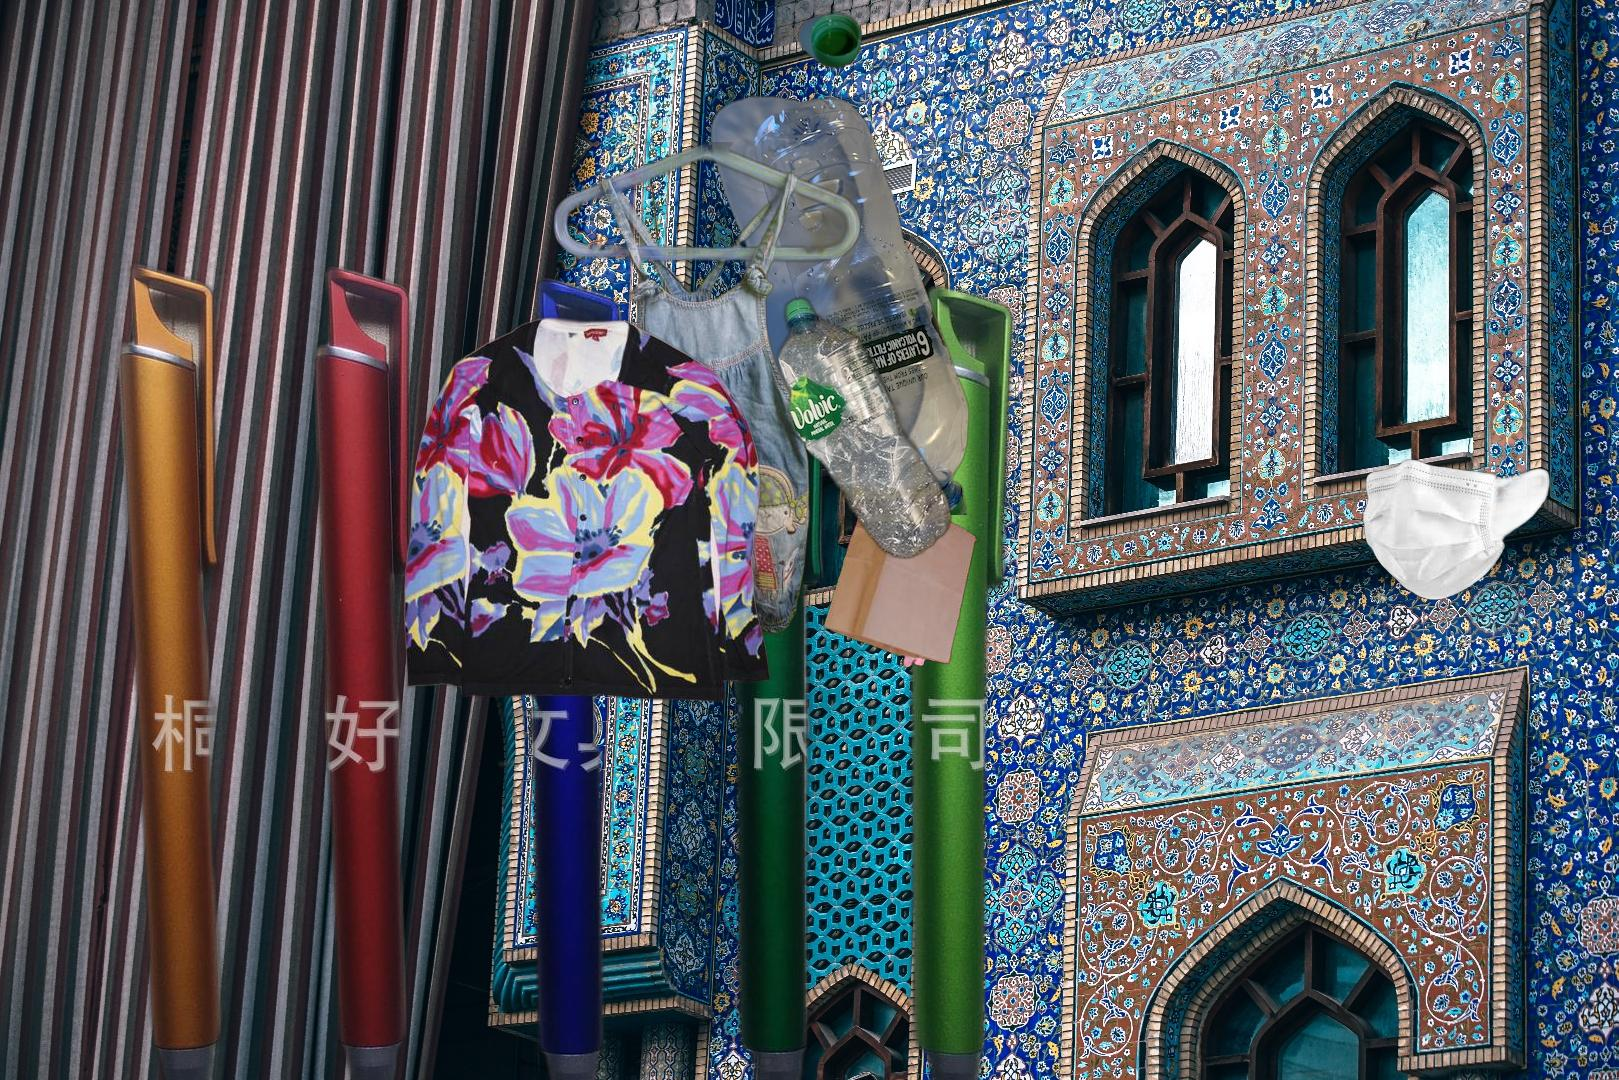clothes: (505, 142, 864, 655), (400, 312, 772, 706)
paper-bag: (821, 489, 1021, 677)
penholder: (108, 230, 1057, 1080)
plastic-bottles: (706, 8, 973, 515), (767, 290, 955, 564)
trash: (1360, 457, 1553, 603)
